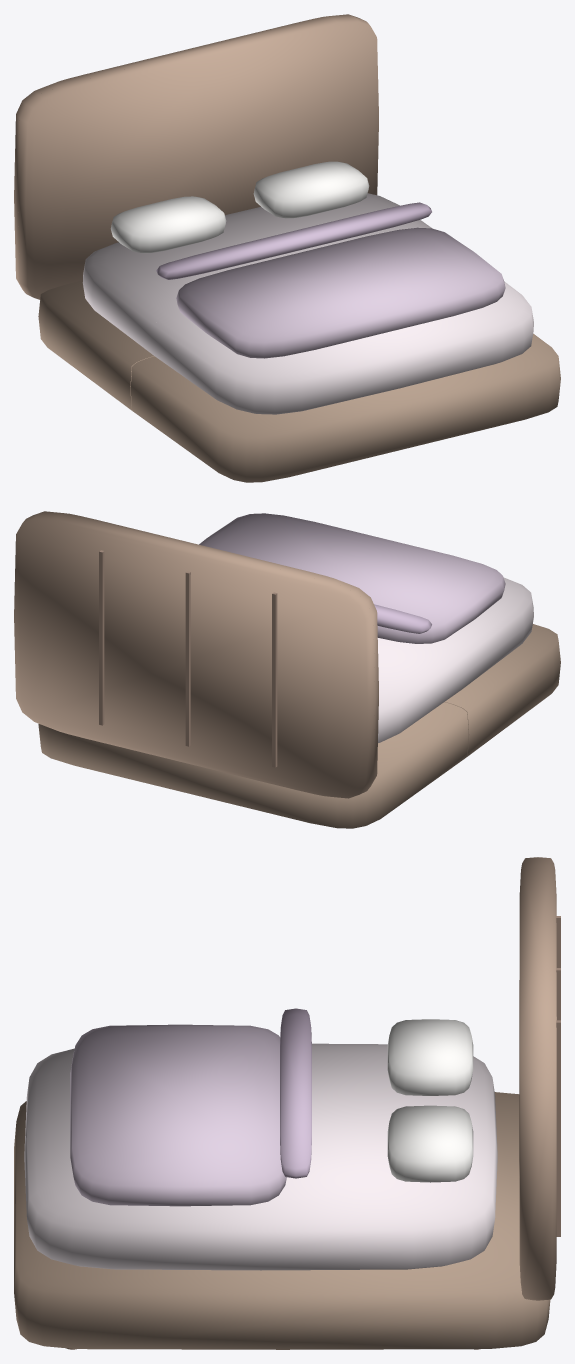
File: bed_1800x2000.glb
3 renders of one model, top to bottom at view 1: azimuth 30°, elevation 25°; view 2: azimuth 150°, elevation 25°; view 3: azimuth 270°, elevation 25°, orthographic. The views are drawn at different scales.
Visible parts, largest first — view 1: padded_headboard, bed_frame, soft_mattress, folded_blanket, blanket_fold, right_pillow, left_pillow; view 2: padded_headboard, bed_frame, folded_blanket, soft_mattress, headboard_vertical_channel (×3), blanket_fold; view 3: soft_mattress, bed_frame, folded_blanket, padded_headboard, left_pillow, right_pillow, blanket_fold, headboard_vertical_channel.
Boxes of the visible parts, x1,y1,x2,y2 form: padded_headboard: (14,14,378,299); bed_frame: (38,280,560,482); soft_mattress: (82,193,533,414); folded_blanket: (176,227,505,358); blanket_fold: (156,202,431,279); right_pillow: (253,161,369,218); left_pillow: (110,196,226,253); padded_headboard: (14,511,378,798); bed_frame: (38,624,560,828); folded_blanket: (199,513,505,643); soft_mattress: (377,577,533,742); headboard_vertical_channel (×3): (99,550,277,767); blanket_fold: (374,604,431,633); soft_mattress: (24,1043,497,1270); bed_frame: (14,1092,550,1349); folded_blanket: (70,1024,286,1206); padded_headboard: (519,857,556,1300); left_pillow: (387,1019,473,1095); right_pillow: (387,1105,473,1182); blanket_fold: (280,1008,311,1178); headboard_vertical_channel: (556,1020,560,1236).
Bounding box in the file's own units: 1.9 × 1.3 × 2.03.
